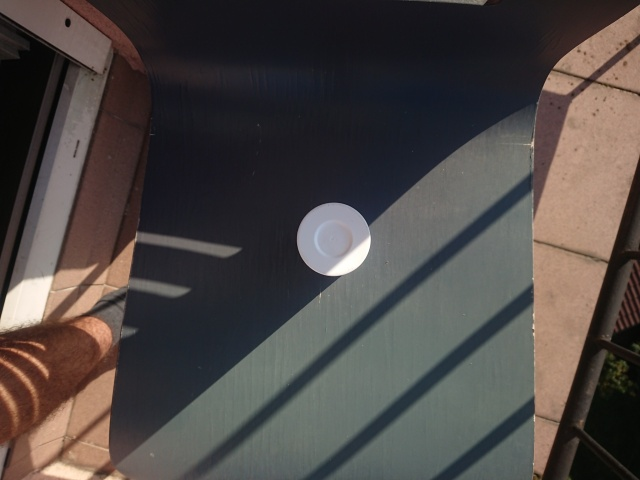Solana Pag Fine Sea Salt 250g: (293, 200, 374, 278)
